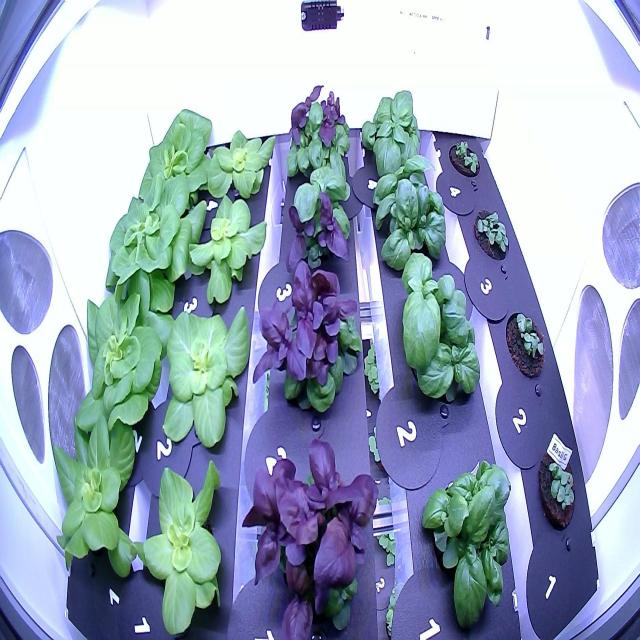germination: (532, 435, 582, 542), (502, 301, 551, 386), (468, 203, 512, 269), (445, 131, 483, 185)
young: (99, 152, 210, 326), (64, 267, 176, 438), (134, 453, 232, 640), (49, 409, 142, 587), (157, 287, 255, 455), (180, 184, 276, 320), (132, 96, 217, 225), (198, 112, 279, 215)
